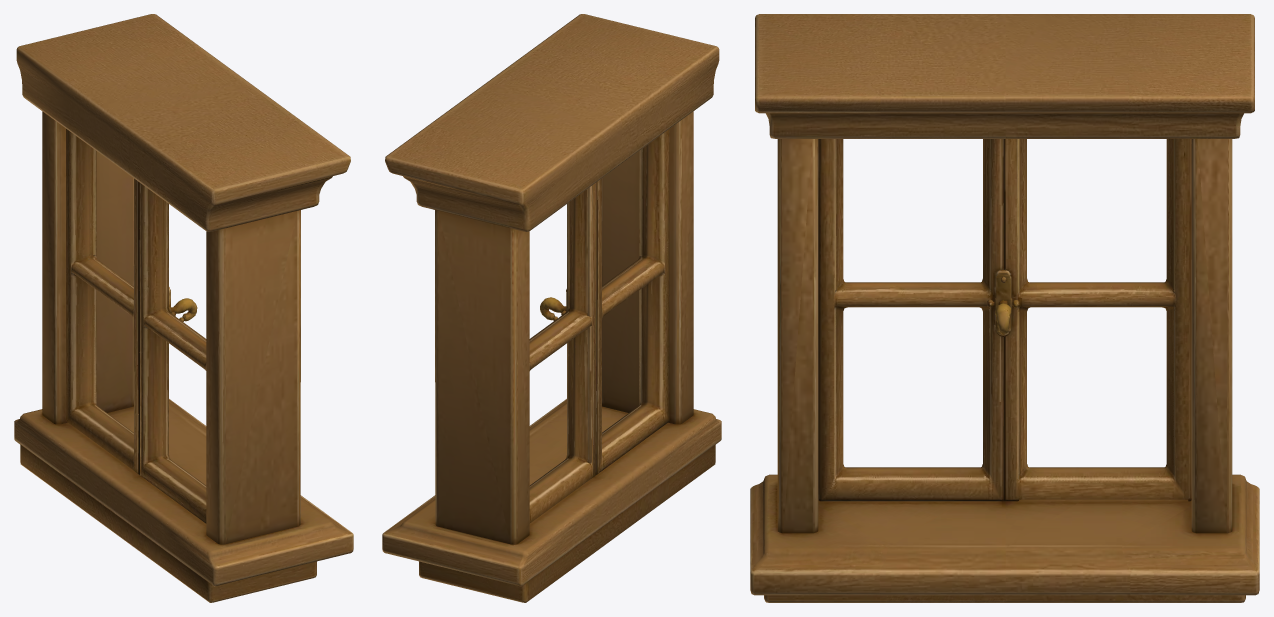
Rendered from window-lod0.glb.
3 renders of one model, left to right at view 1: azimuth 30°, elevation 25°; view 2: azimuth 150°, elevation 25°; view 3: azimuth 270°, elevation 25°, orthographic. The views are drawn at different scales.
Parts seen in each view (by area): view 1: tripo_part_10, tripo_part_4, tripo_part_11; view 2: tripo_part_10, tripo_part_11, tripo_part_4, tripo_part_5; view 3: tripo_part_10, tripo_part_11, tripo_part_4, tripo_part_23, tripo_part_15.
Part boxes in pixels (box(x1,y1,x2,y2)): tripo_part_10: box(14, 14, 353, 602); tripo_part_4: box(66, 129, 139, 474); tripo_part_11: box(140, 183, 206, 523); tripo_part_10: box(382, 14, 721, 602); tripo_part_11: box(540, 129, 669, 474); tripo_part_4: box(529, 182, 596, 523); tripo_part_5: box(583, 185, 592, 474); tripo_part_10: box(750, 14, 1259, 602); tripo_part_11: box(818, 139, 1019, 501); tripo_part_4: box(1003, 139, 1191, 501); tripo_part_23: box(818, 139, 819, 499); tripo_part_15: box(1190, 139, 1191, 499).
Size of the model in its own units: 0.3542 by 1 by 0.8787.
Materials: 20 (20 with a texture image).
